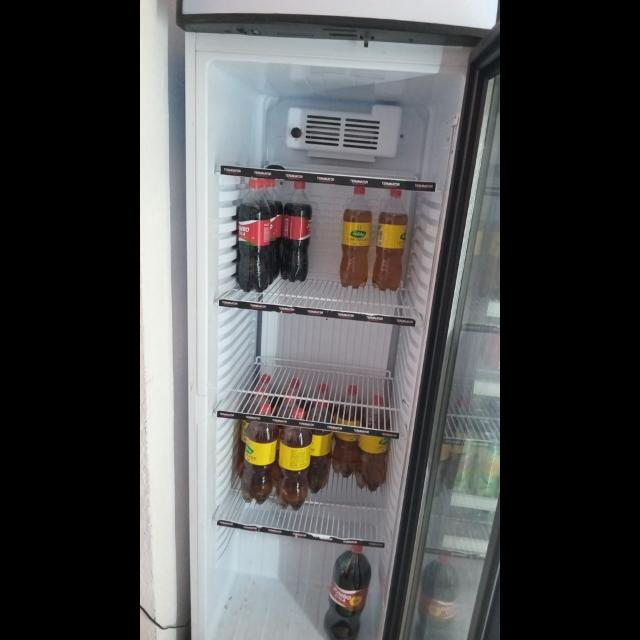Cooling-Display: (175, 1, 499, 640)
